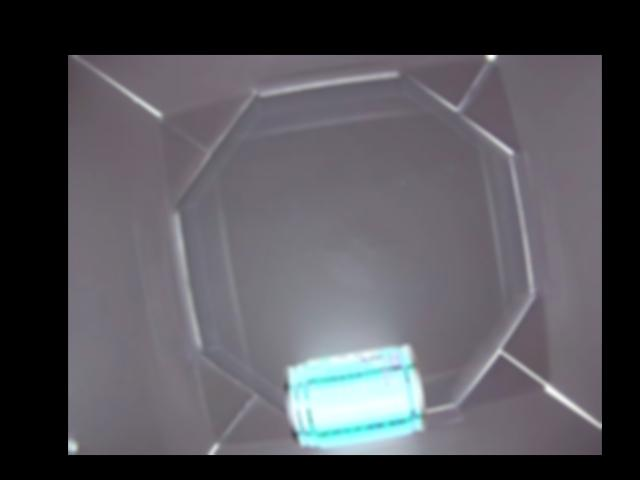Bottle: (280, 345, 425, 449)
